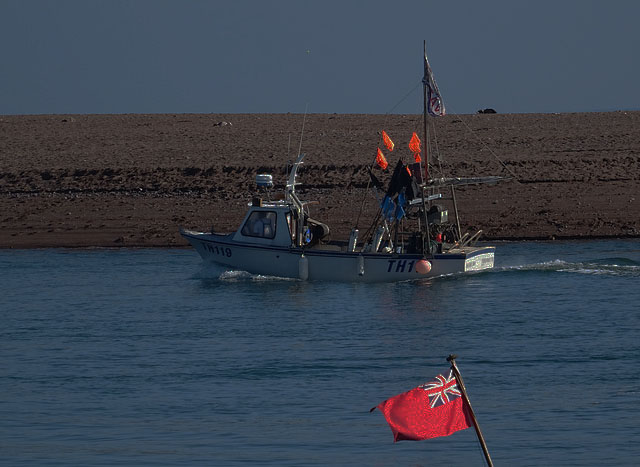fishing_boat: (178, 124, 499, 277)
